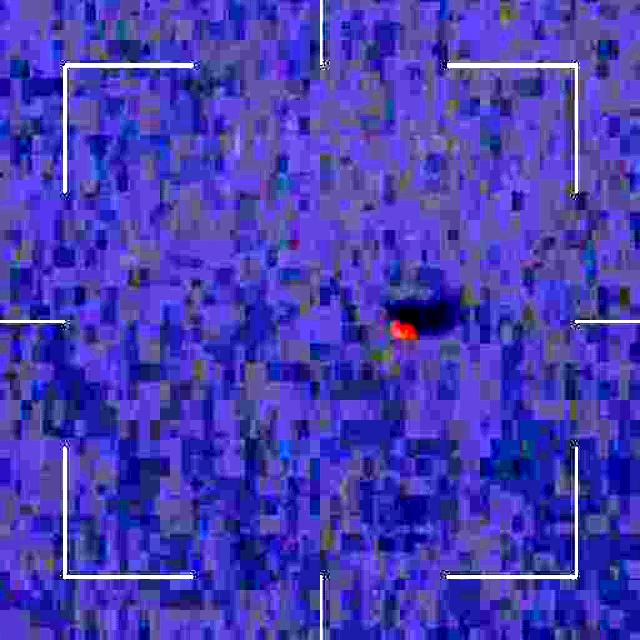bird: (389, 309, 420, 344)
